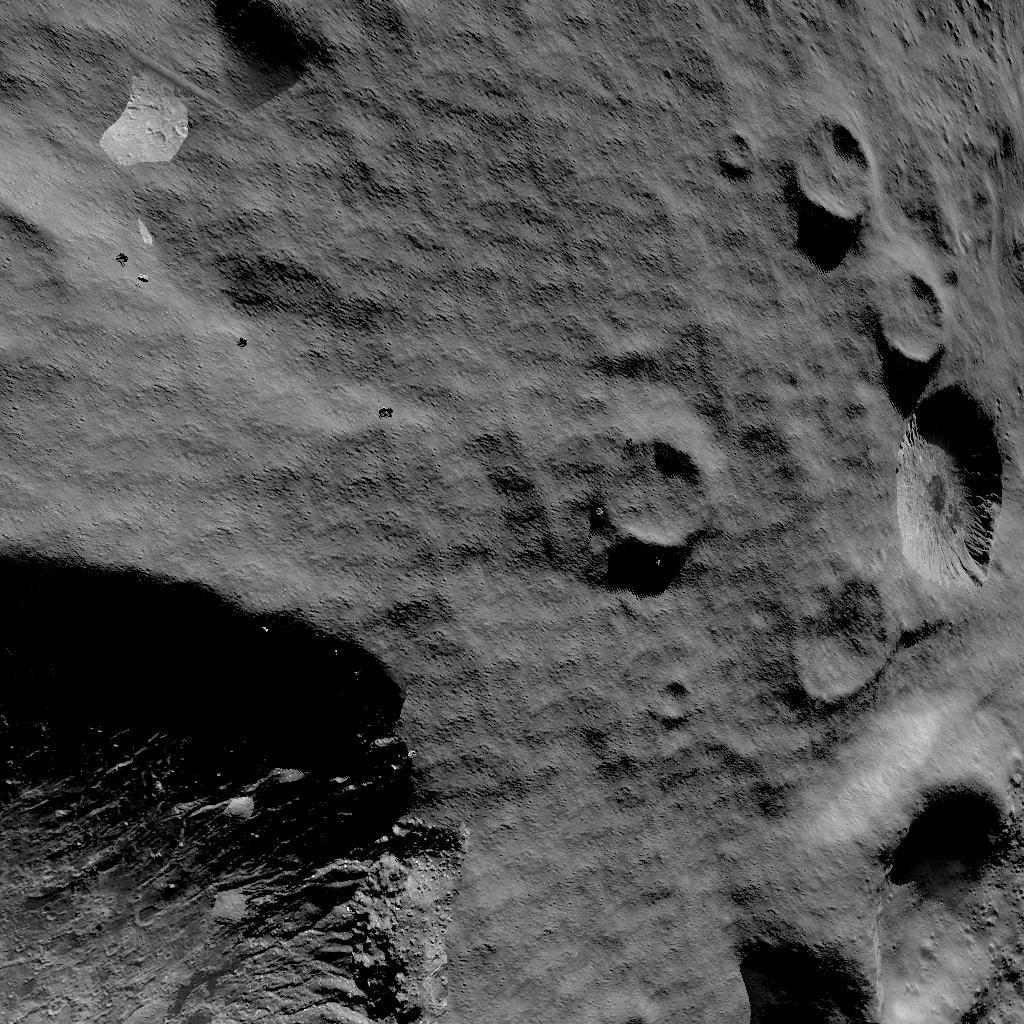Boulders: (81, 62, 191, 164)
Crater: (0, 532, 431, 1024), (764, 712, 1024, 1024), (779, 384, 1015, 689), (588, 430, 720, 570), (782, 112, 876, 232), (863, 273, 954, 369)
Plan surface: (0, 179, 541, 516)
